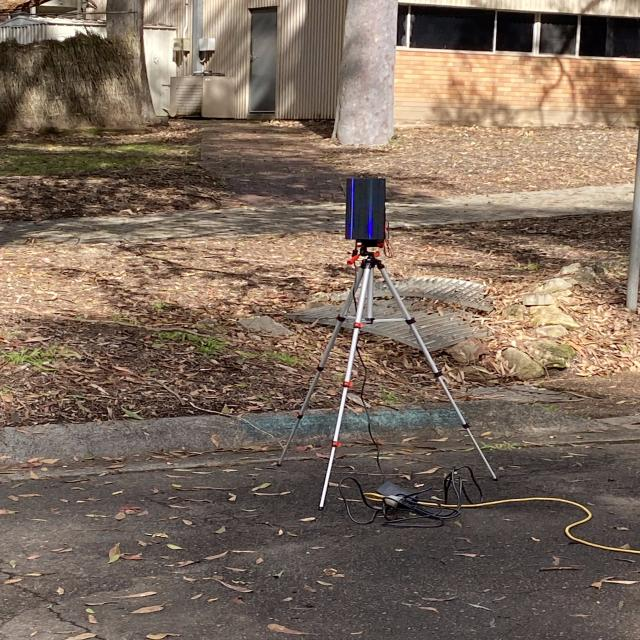matrix: (334, 170, 400, 249)
